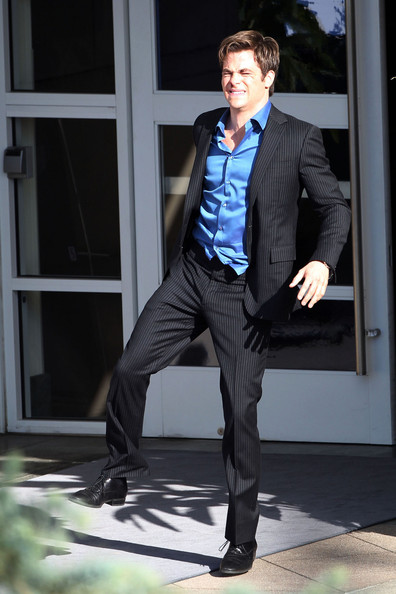Person: (68, 30, 352, 576)
